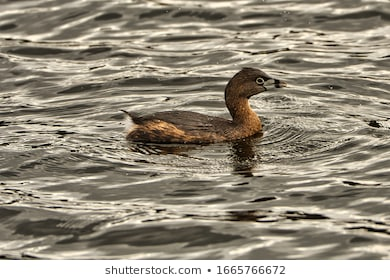duck: (118, 55, 300, 164)
